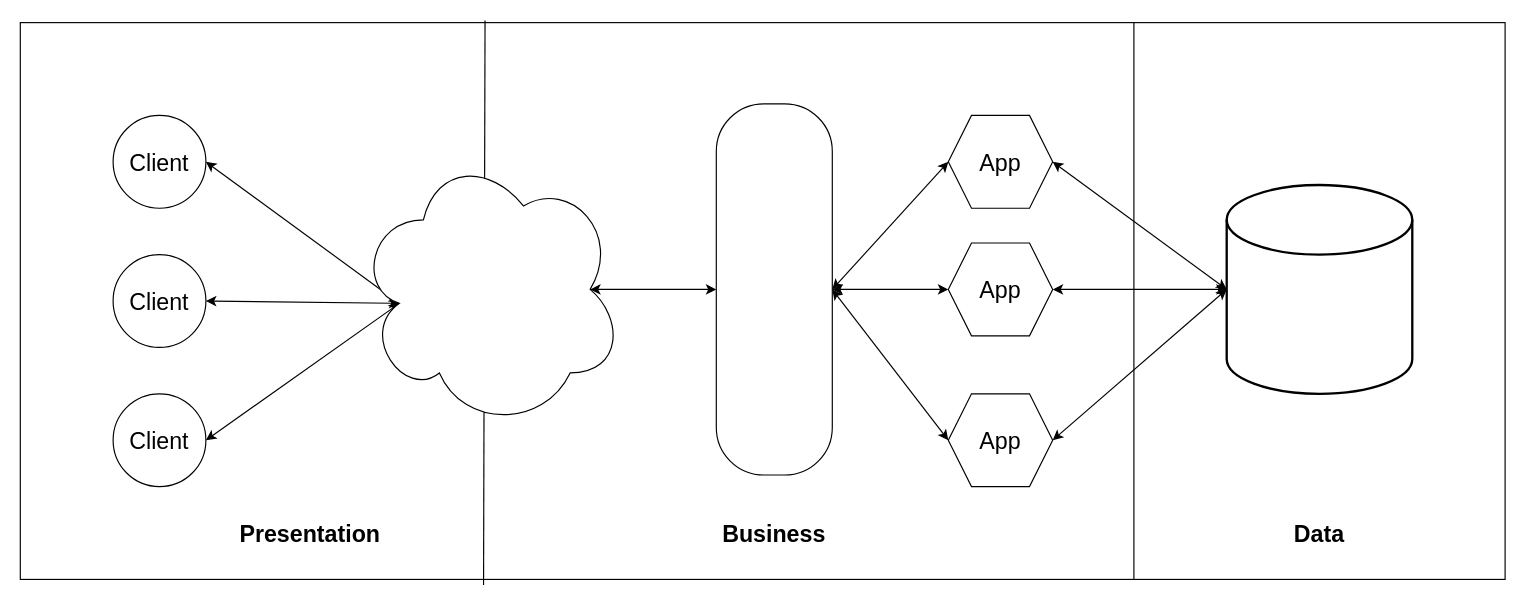
The diagram is 1525 pixels wide and 607 high, and some of its shapes have lost their labels. Here are the shapes that lost their labels. From the top down, the centre of each, then its label:
the point at 490,289: Internet
the point at 773,289: LOAD BALANCER
the point at 1319,288: Database
